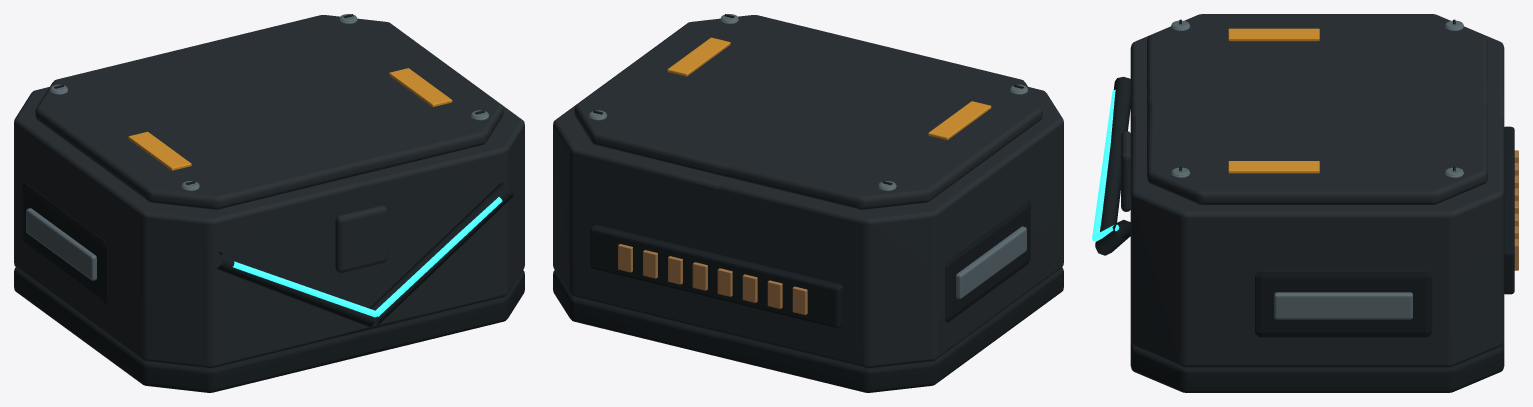
The model's file is security_module.glb.
The picture shows the model from 3 angles, left to right: view 1: azimuth 30°, elevation 25°; view 2: azimuth 150°, elevation 25°; view 3: azimuth 270°, elevation 25°; orthographic projection. The views are drawn at different scales.
Parts seen in each view (by area): view 1: ConformalCassetteShell, ServiceLid, LowerIsolationSeal, SecurityRecess.001, RecessedCoupler.001, ArmoredCore, SecuritySignature.001, WitnessMark.001, CouplerRail.001; view 2: ConformalCassetteShell, ServiceLid, LowerIsolationSeal, ConnectorRecess, RecessedCoupler.001, WitnessMark.001, CouplerRail.001, GoldContact.004, GoldContact.006, GoldContact.005, GoldContact.007; view 3: ServiceLid, ConformalCassetteShell, LowerIsolationSeal, RecessedCoupler.001, CouplerRail.001, SecurityRecess.001, WitnessMark.001, ConnectorRecess, SecuritySignature.001, ArmoredCore.
Boxes of the visible parts, x1=… form: ConformalCassetteShell: x1=14, y1=87, x2=524, y2=368; ServiceLid: x1=35, y1=15, x2=503, y2=209; LowerIsolationSeal: x1=14, y1=267, x2=524, y2=392; SecurityRecess.001: x1=212, y1=183, x2=513, y2=326; RecessedCoupler.001: x1=22, y1=182, x2=107, y2=304; ArmoredCore: x1=335, y1=205, x2=387, y2=272; SecuritySignature.001: x1=233, y1=197, x2=502, y2=317; WitnessMark.001: x1=128, y1=68, x2=452, y2=170; CouplerRail.001: x1=26, y1=208, x2=96, y2=280; ConformalCassetteShell: x1=553, y1=87, x2=1063, y2=368; ServiceLid: x1=574, y1=15, x2=1042, y2=209; LowerIsolationSeal: x1=553, y1=267, x2=1063, y2=392; ConnectorRecess: x1=590, y1=225, x2=842, y2=328; RecessedCoupler.001: x1=945, y1=201, x2=1030, y2=322; WitnessMark.001: x1=667, y1=37, x2=991, y2=140; CouplerRail.001: x1=956, y1=226, x2=1026, y2=298; GoldContact.004: x1=692, y1=262, x2=732, y2=296; GoldContact.006: x1=643, y1=250, x2=782, y2=308; GoldContact.005: x1=668, y1=256, x2=757, y2=302; GoldContact.007: x1=618, y1=244, x2=807, y2=314; ServiceLid: x1=1147, y1=14, x2=1487, y2=204; ConformalCassetteShell: x1=1130, y1=35, x2=1504, y2=367; LowerIsolationSeal: x1=1130, y1=341, x2=1504, y2=392; RecessedCoupler.001: x1=1255, y1=271, x2=1432, y2=337; CouplerRail.001: x1=1274, y1=292, x2=1412, y2=319; SecurityRecess.001: x1=1095, y1=76, x2=1130, y2=255; WitnessMark.001: x1=1228, y1=28, x2=1319, y2=173; ConnectorRecess: x1=1504, y1=126, x2=1514, y2=294; SecuritySignature.001: x1=1092, y1=89, x2=1119, y2=241; ArmoredCore: x1=1121, y1=131, x2=1130, y2=211.
Size of the model in its own units: 1.1 by 0.514 by 0.9824.
